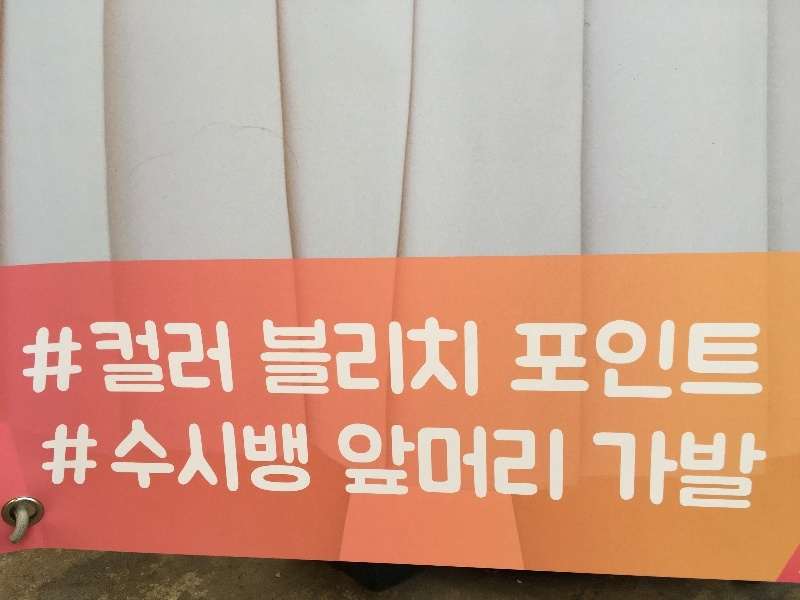text: (33, 311, 48, 396), (49, 311, 64, 396), (65, 311, 80, 396), (81, 311, 96, 396), (97, 311, 112, 396), (113, 311, 128, 396), (129, 311, 144, 396), (145, 311, 160, 396), (161, 311, 176, 396), (177, 311, 192, 396), (193, 311, 208, 396), (209, 311, 224, 396), (753, 433, 769, 512), (257, 319, 272, 399), (273, 319, 288, 399), (289, 319, 304, 399), (305, 319, 320, 399), (321, 319, 336, 399), (337, 319, 352, 399), (353, 319, 368, 399), (369, 319, 384, 399), (385, 319, 400, 399), (401, 319, 416, 399), (417, 319, 432, 399), (433, 319, 448, 399), (449, 319, 464, 399), (465, 319, 480, 399), (513, 321, 528, 401), (529, 321, 544, 401), (545, 321, 560, 401), (561, 321, 576, 401), (577, 321, 592, 401), (593, 321, 608, 401), (609, 321, 624, 401), (625, 321, 640, 401), (641, 321, 656, 401), (657, 321, 672, 401), (673, 321, 688, 401), (689, 321, 704, 401), (705, 321, 720, 401), (721, 321, 736, 401), (737, 321, 752, 401), (337, 423, 352, 502), (353, 423, 368, 502), (369, 423, 384, 502), (385, 423, 400, 502), (401, 423, 416, 502), (417, 423, 432, 502), (433, 423, 448, 502), (449, 423, 464, 502), (465, 423, 480, 502), (481, 423, 496, 502), (497, 423, 512, 502), (513, 423, 528, 502), (529, 423, 544, 502), (545, 423, 560, 502), (593, 433, 608, 512), (609, 433, 624, 512), (625, 433, 640, 512), (641, 433, 656, 512), (657, 433, 672, 512), (673, 433, 688, 512), (689, 433, 704, 512), (705, 433, 720, 512), (721, 433, 736, 512), (737, 433, 752, 512), (49, 418, 64, 496), (65, 418, 80, 496), (81, 418, 96, 496), (97, 418, 112, 496), (113, 418, 128, 496), (129, 418, 144, 496), (145, 418, 160, 496), (161, 418, 176, 496), (177, 418, 192, 496), (193, 418, 208, 496), (209, 418, 224, 496), (225, 418, 240, 496), (241, 418, 256, 496), (257, 418, 272, 496), (273, 418, 288, 496), (289, 418, 304, 496), (21, 311, 32, 396), (753, 321, 763, 401), (225, 311, 234, 396), (40, 418, 48, 496), (305, 418, 311, 496), (509, 321, 512, 401), (561, 423, 564, 502)
